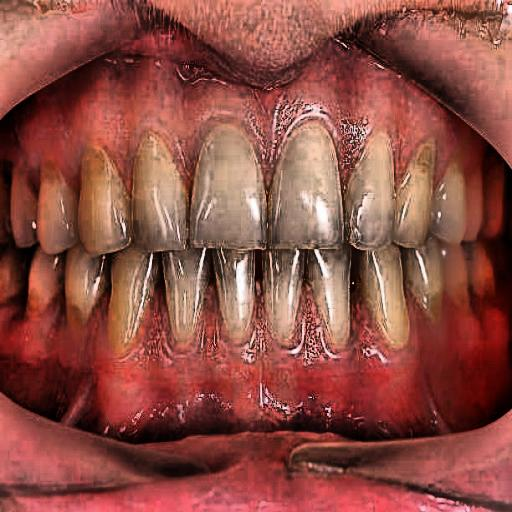Gingivitis: (27, 70, 451, 160)
